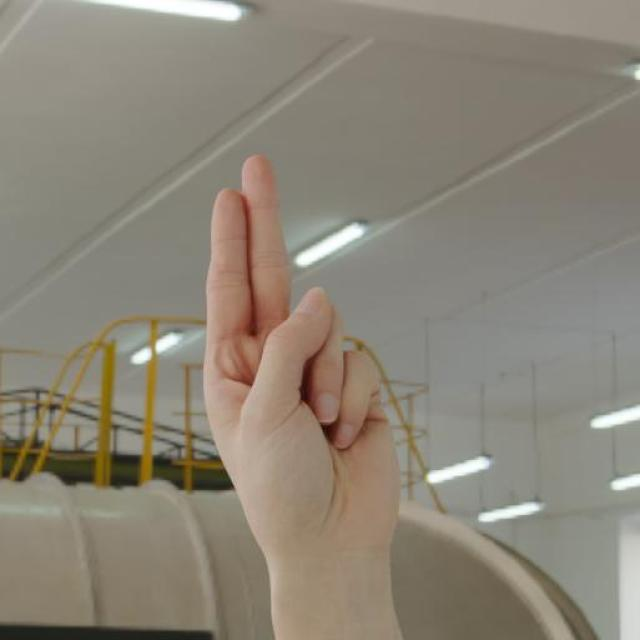U: (194, 150, 405, 588)
